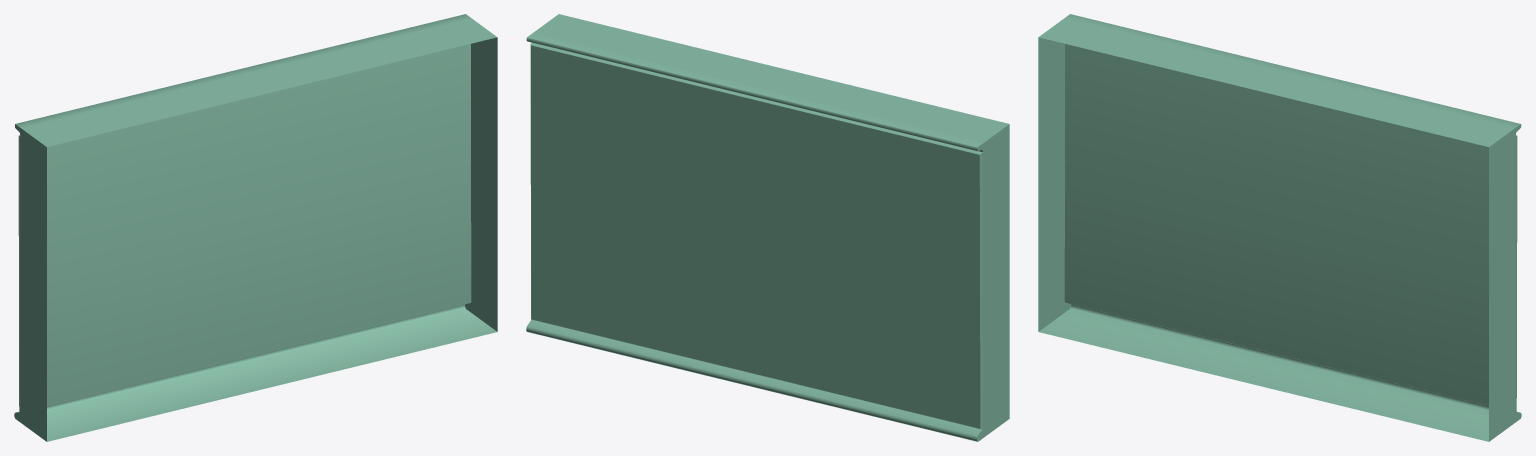
File: pared12.fbx
The picture shows the model from 3 angles, left to right: view 1: azimuth 30°, elevation 25°; view 2: azimuth 150°, elevation 25°; view 3: azimuth 330°, elevation 25°; orthographic projection.
Parts seen in each view (by area): view 1: 034; view 2: 034; view 3: 034.
Boxes of the visible parts, x1,y1,x2,y2 form: 034: (14,14,497,441); 034: (526,14,1009,441); 034: (1038,14,1521,441).
Bounding box in the file's own units: 400 × 250 × 49.99.
